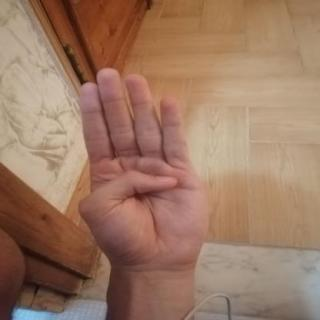KAAF: (59, 61, 229, 279)
